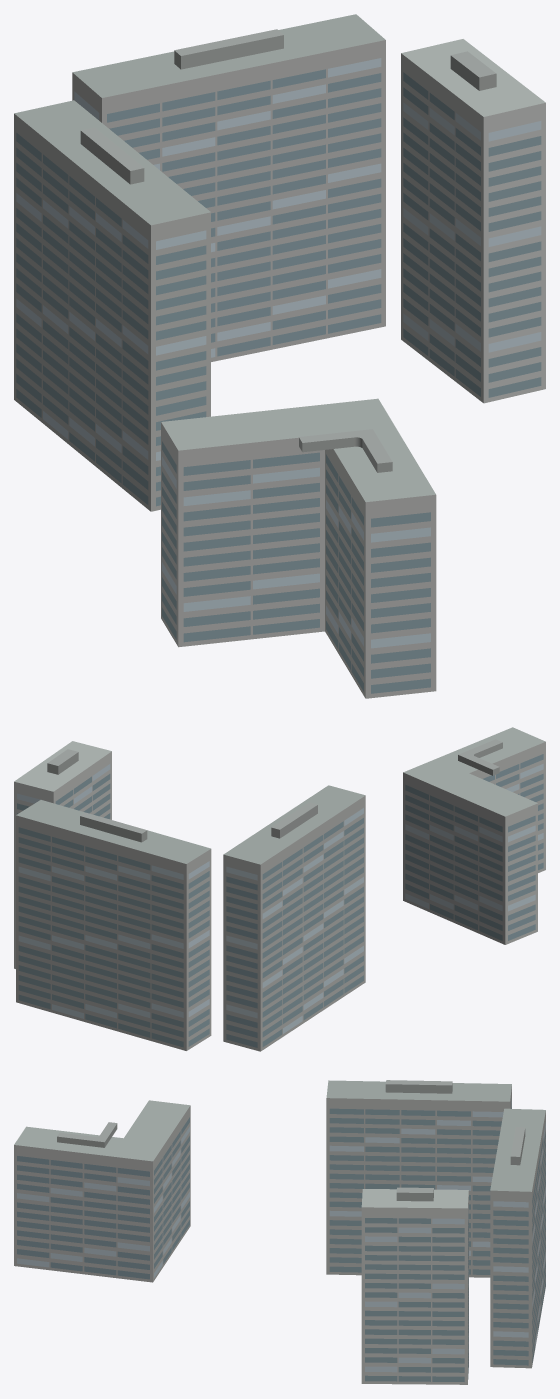
Rendered from apt-a15382301.glb.
3 views of the same model, one above another, from view 1: azimuth 30°, elevation 25°; view 2: azimuth 150°, elevation 25°; view 3: azimuth 270°, elevation 25° (orthographic). The views are drawn at different scales.
Visible parts, largest first — view 1: apt-a15382301; view 2: apt-a15382301; view 3: apt-a15382301.
Boxes of the visible parts, left/top/right/bottom form: apt-a15382301: left=14, top=14, right=545, bottom=698; apt-a15382301: left=14, top=727, right=545, bottom=1051; apt-a15382301: left=14, top=1080, right=545, bottom=1384.
Bounding box in the file's own units: 96.78 × 51 × 133.
